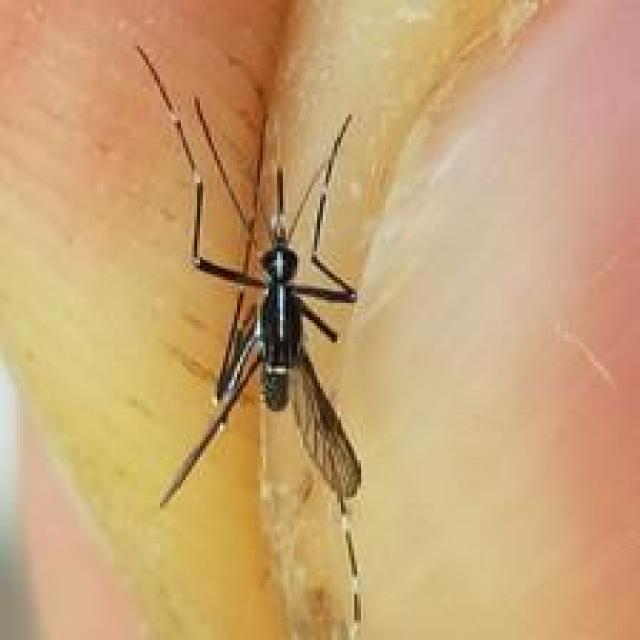Aedes albopictus: (134, 43, 369, 634)
